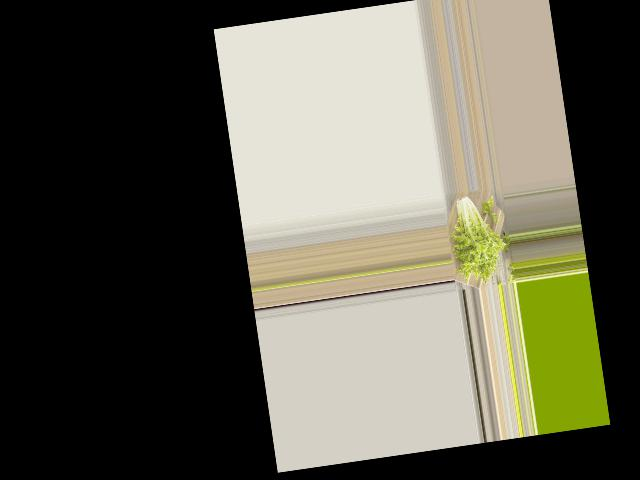lettuce: (444, 187, 508, 283)
